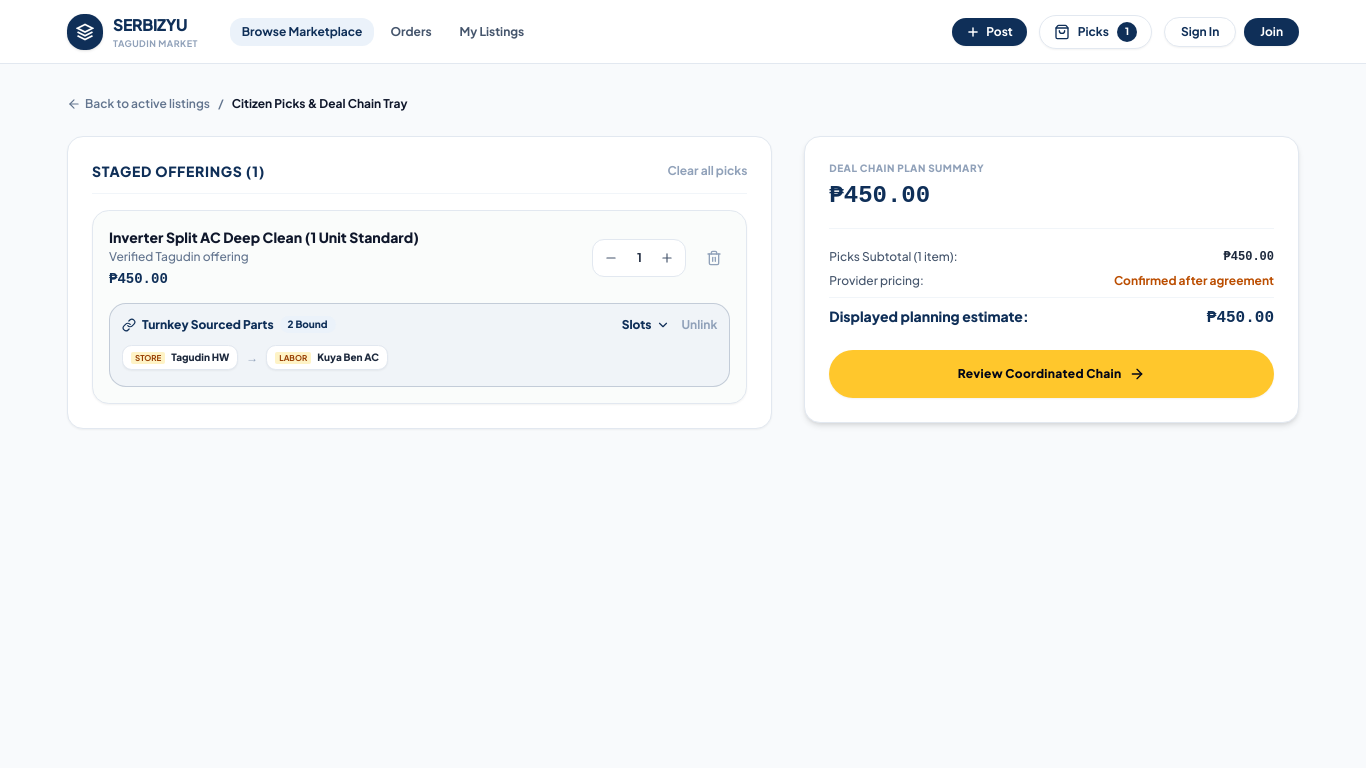
Picks Page › opens the coordinated chain modal when items have a deal chain attached
This screenshot has width=1366, height=768.
Click the button "Review Coordinated Chain" at (1052, 374), box [829, 350, 1274, 398]
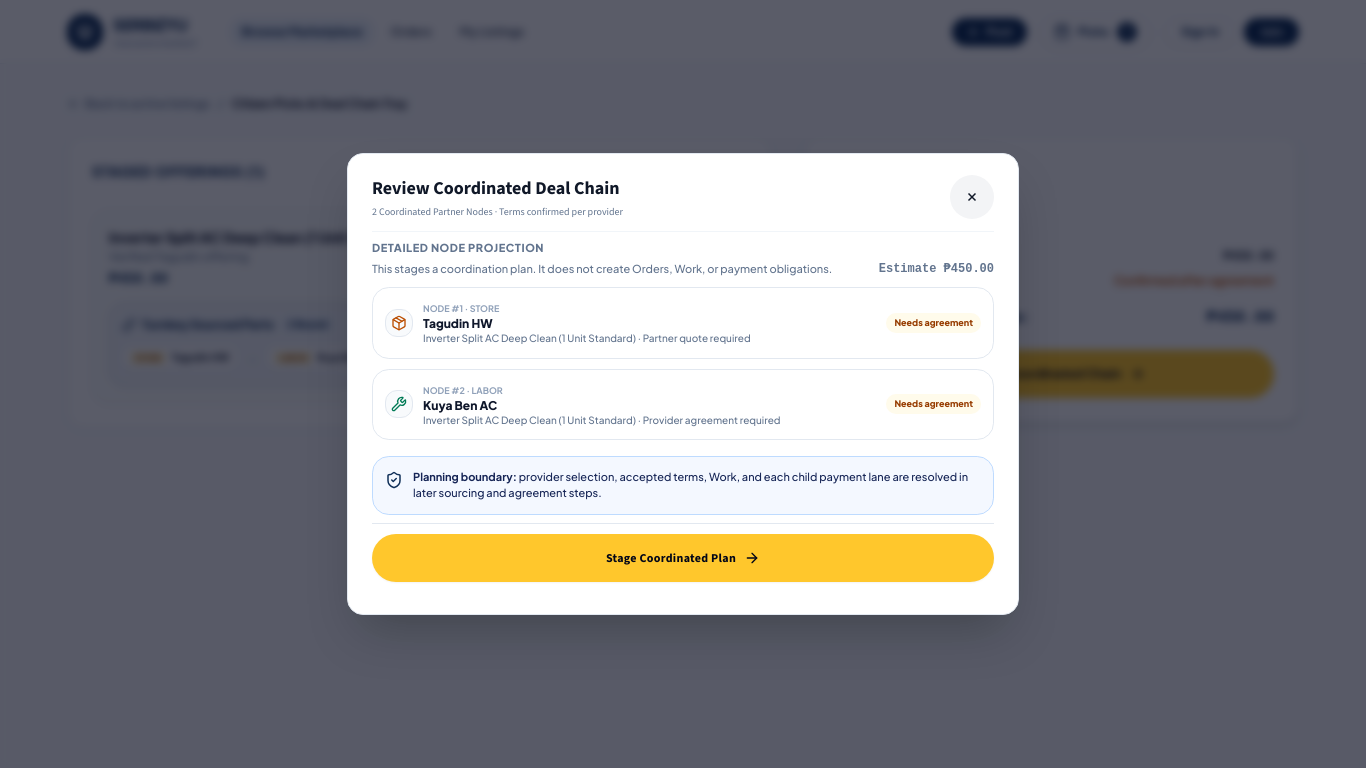
Check: the heading "Review Coordinated Deal Chain" is shown, box [372, 176, 620, 200]
Check: the button "Stage Coordinated Plan" is shown, box [372, 534, 994, 582]
